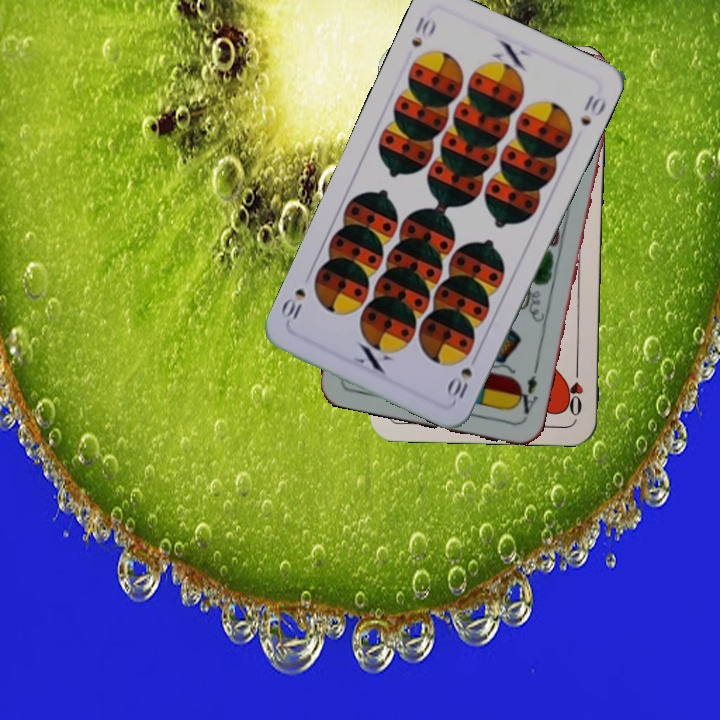EA: (511, 362, 541, 421)
HO: (562, 361, 586, 419)
S10: (407, 12, 439, 50), (444, 363, 475, 402)
